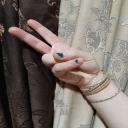PeaceSign: (8, 18, 100, 92)
